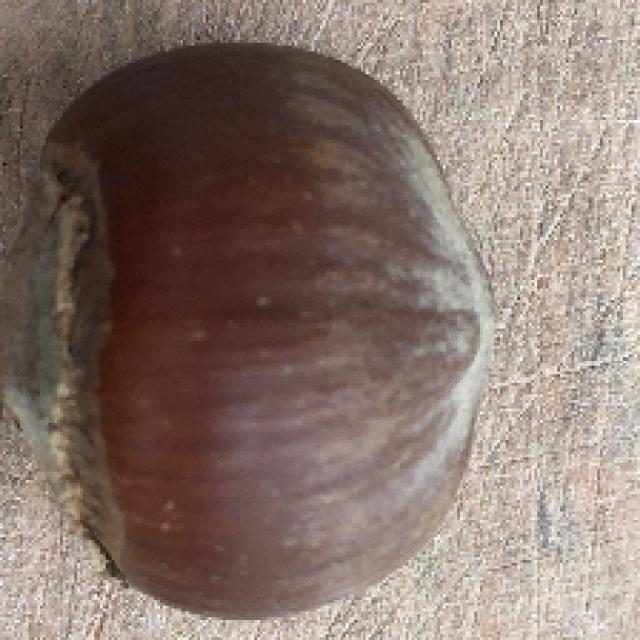qualityHazelnut: (0, 44, 502, 622)
